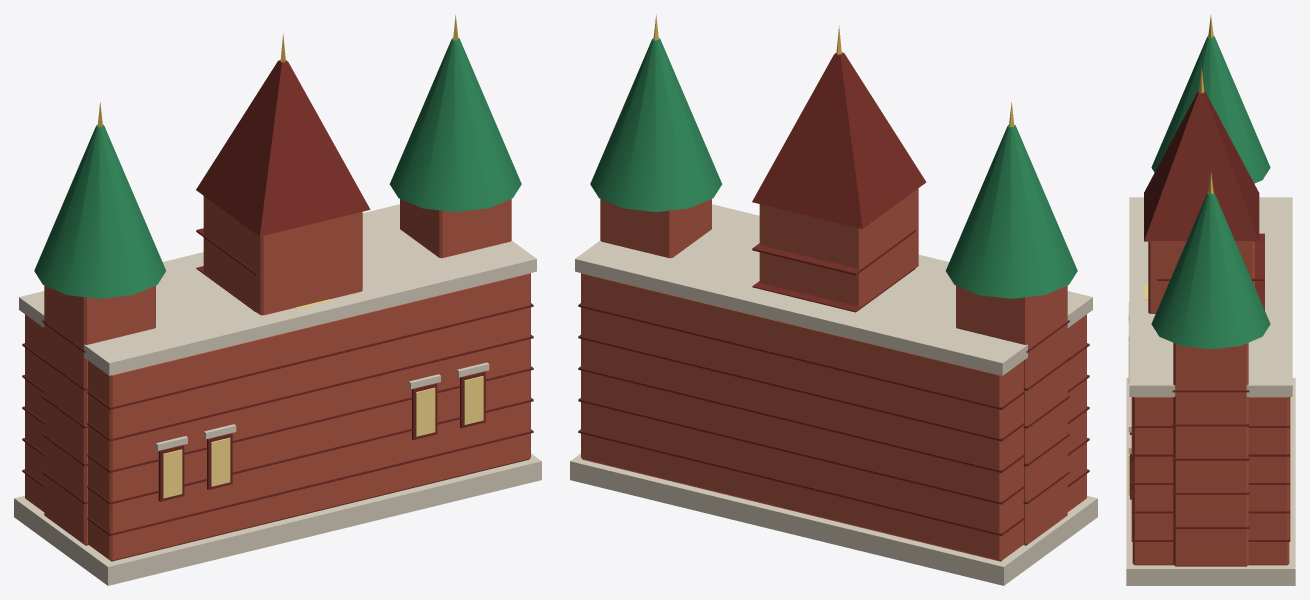
Rendered from bld_museum.glb.
The picture shows the model from 3 angles, left to right: view 1: azimuth 30°, elevation 25°; view 2: azimuth 150°, elevation 25°; view 3: azimuth 270°, elevation 25°; orthographic projection. The views are drawn at different scales.
Visible parts, largest first — view 1: bld_museum; view 2: bld_museum; view 3: bld_museum.
Boxes of the visible parts, x1,y1,x2,y2 form: bld_museum: (14,15,541,585); bld_museum: (570,15,1097,585); bld_museum: (1126,15,1295,585).
Bounding box in the file's own units: 15.6 × 14.9 × 5.4.
1 material, 1 textured.
